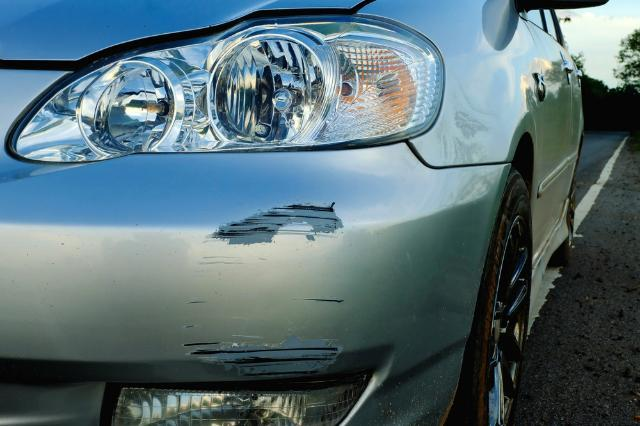scratch: (179, 195, 353, 379)
